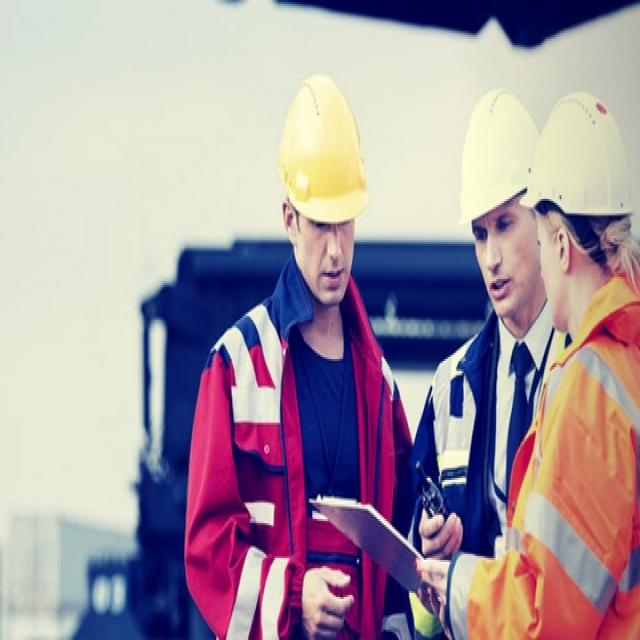Reflective-Jacket: (198, 279, 403, 638), (475, 295, 640, 640), (413, 310, 554, 634)
Safety-Helmet: (273, 65, 375, 232), (529, 80, 640, 230), (452, 76, 538, 234)
